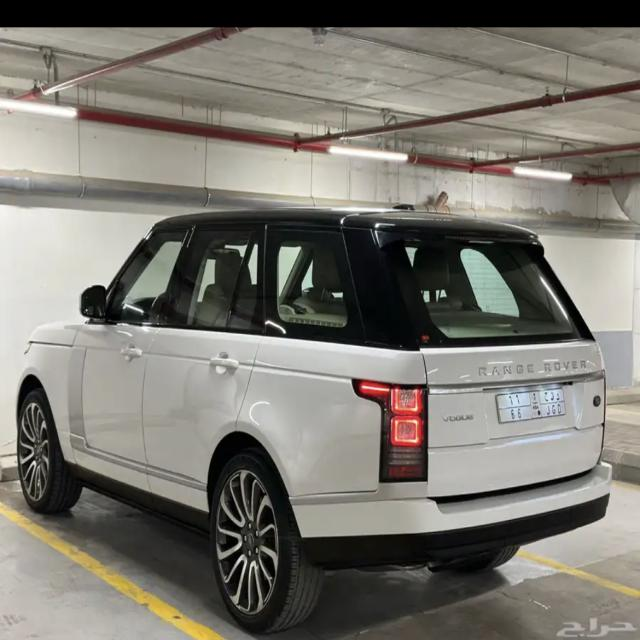license_plate: (494, 391, 569, 425)
